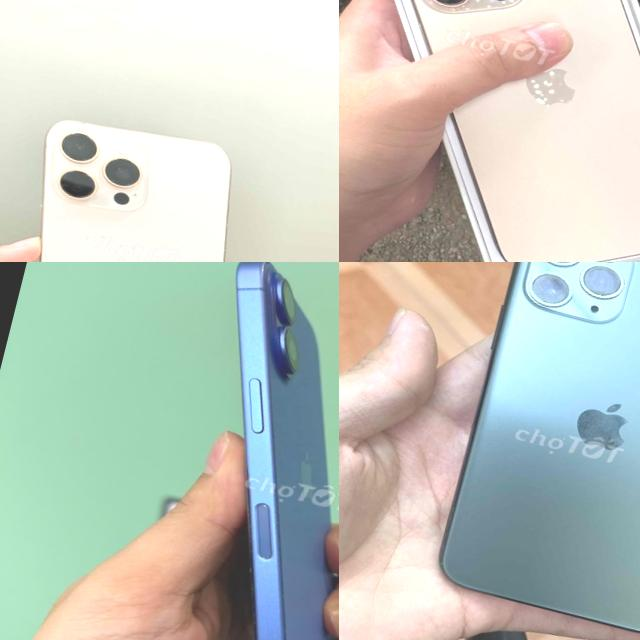gen_11: (409, 262, 640, 640)
gen_16: (339, 0, 640, 262), (235, 262, 339, 640), (40, 121, 229, 262)
